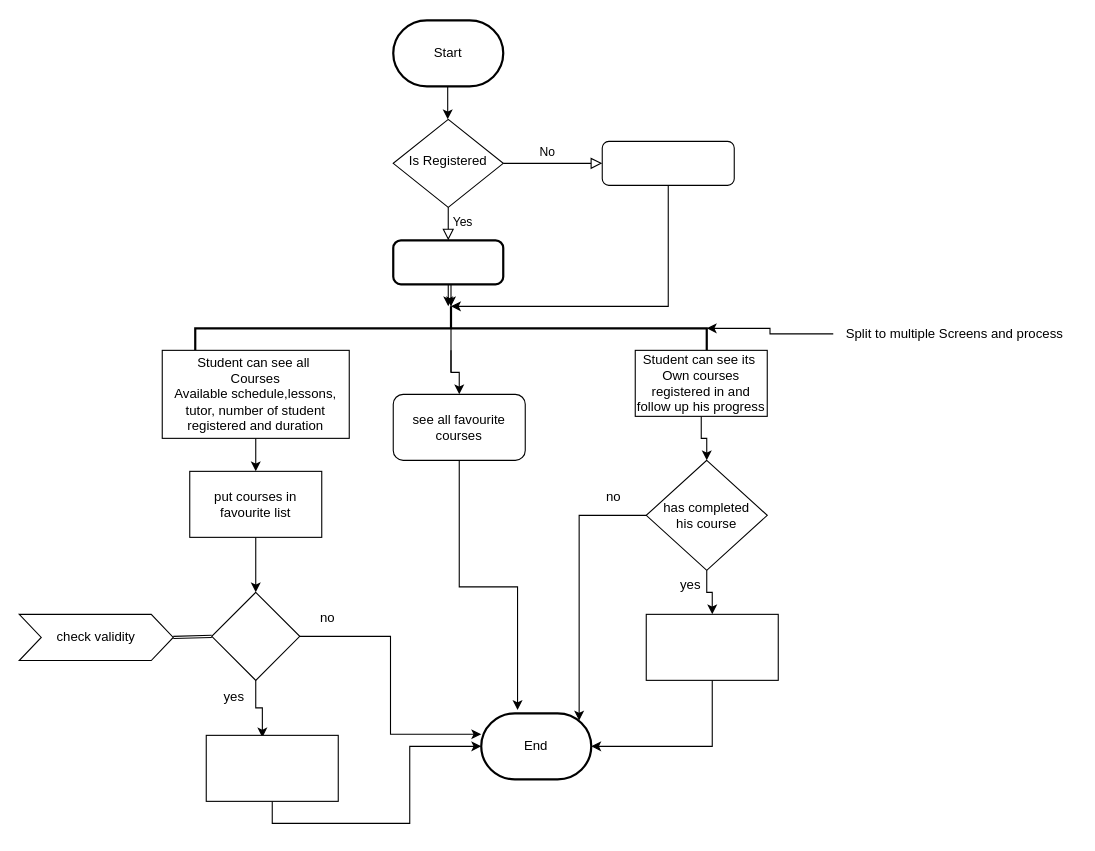
This 1095x851 diagram has some shape labels left out. Here are the shapes that lost their labels. From the top down, the box of each, then its label:
(601, 140, 734, 185): Create New Account
(392, 239, 504, 285): Log In as teacher
(211, 591, 300, 680): enroll course
(645, 613, 778, 680): get certification
(205, 734, 338, 801): enroll his course
